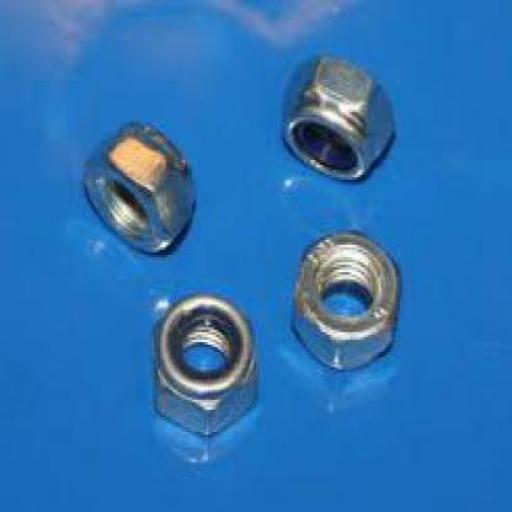Nut: (289, 228, 402, 375), (150, 292, 260, 442), (82, 121, 197, 257), (280, 53, 398, 185)
